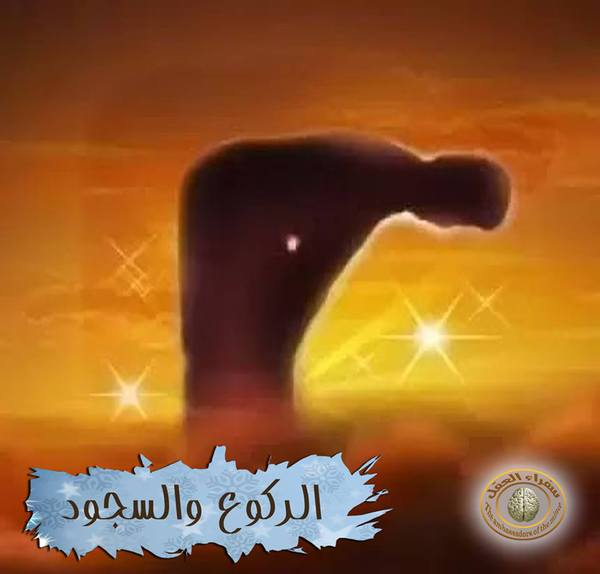ruku: (121, 110, 535, 453)
